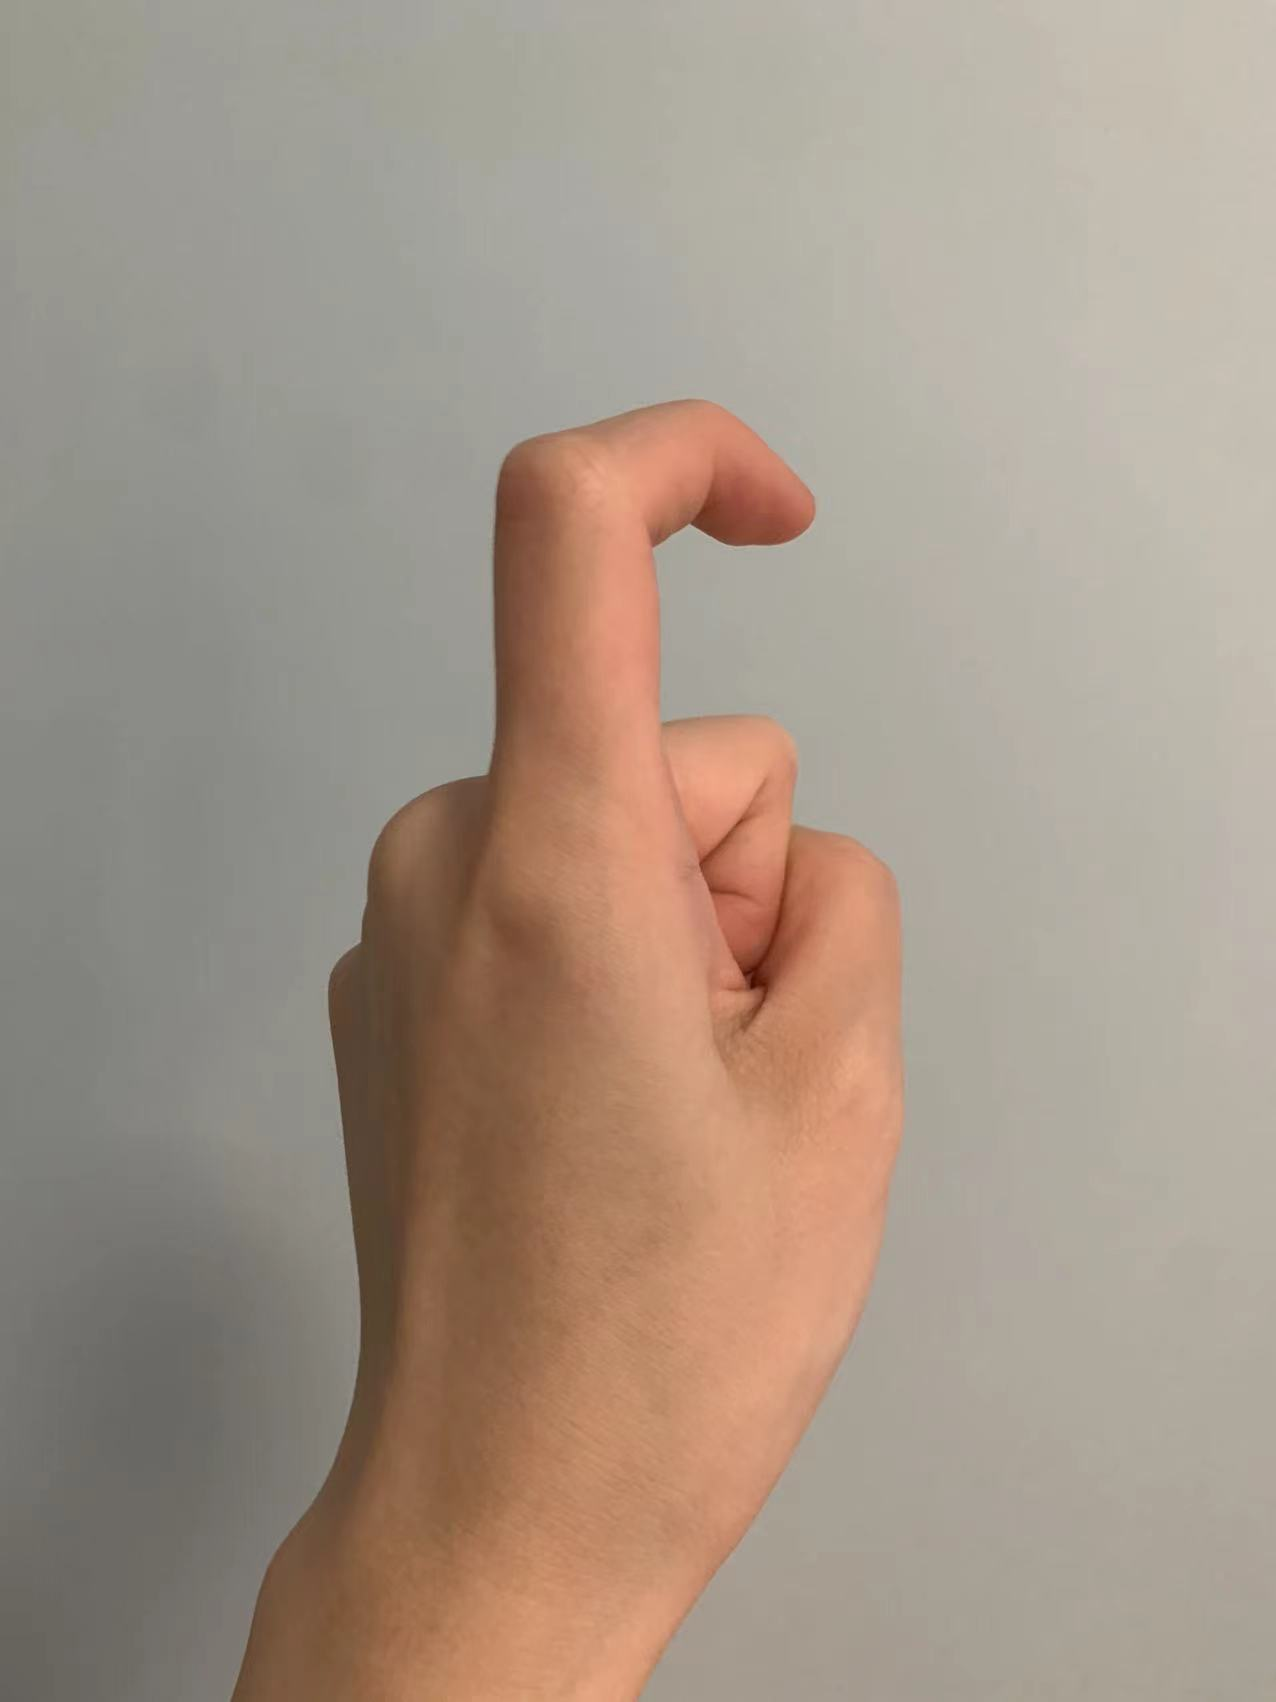anticlockwise: (296, 378, 944, 1506)
